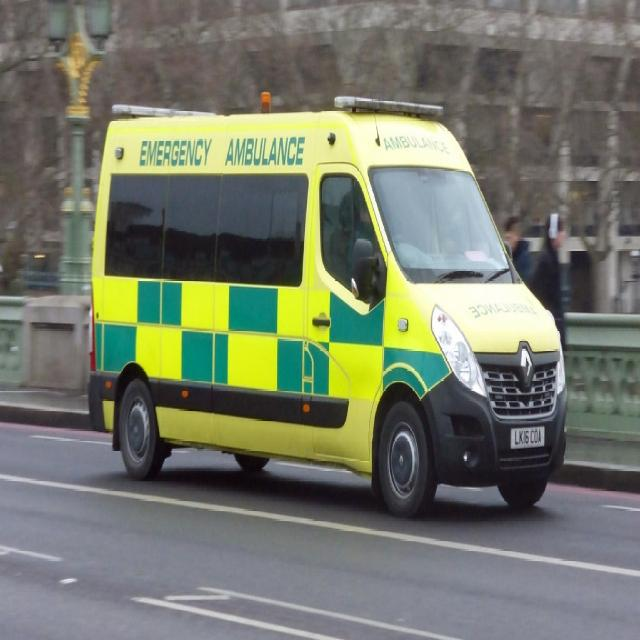ambulance: (88, 90, 568, 518)
